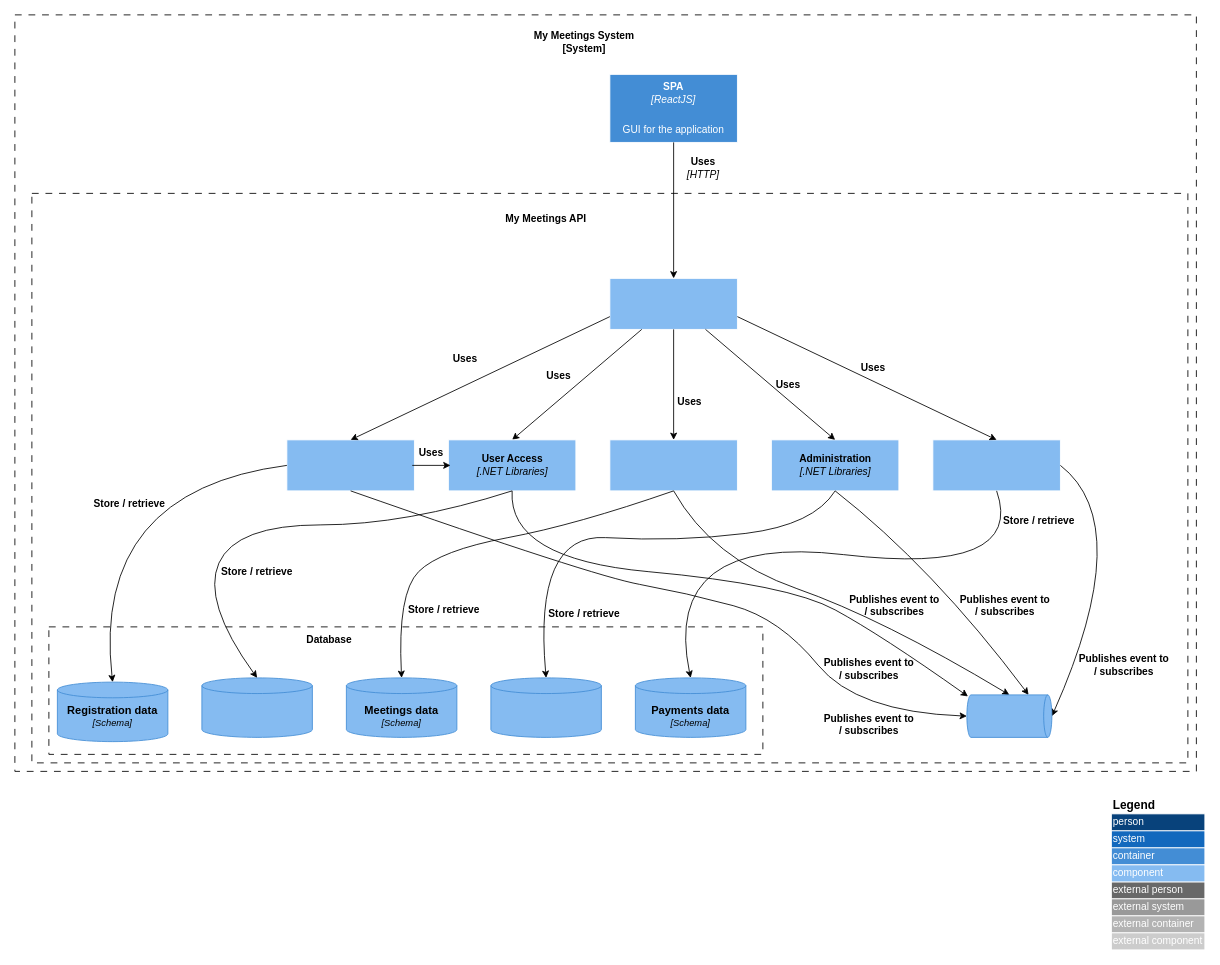
This 1220x965 diagram has some shape labels left out. The shapes that lost their labels are listed below. From the top down, each one's box as (x1, y1, x2, y2) in pixels, then its label:
(609, 278, 737, 329): API [.NET Core API]
(286, 439, 414, 491): Registrations [.NET Libraries]
(609, 439, 737, 491): Meetings [.NET Libraries]
(932, 439, 1060, 491): Payments [.NET Libraries]
(201, 677, 312, 737): User Access data [Schema]
(490, 677, 601, 737): Administration data [Schema]
(966, 694, 1052, 737): Event Bus [In memory]
